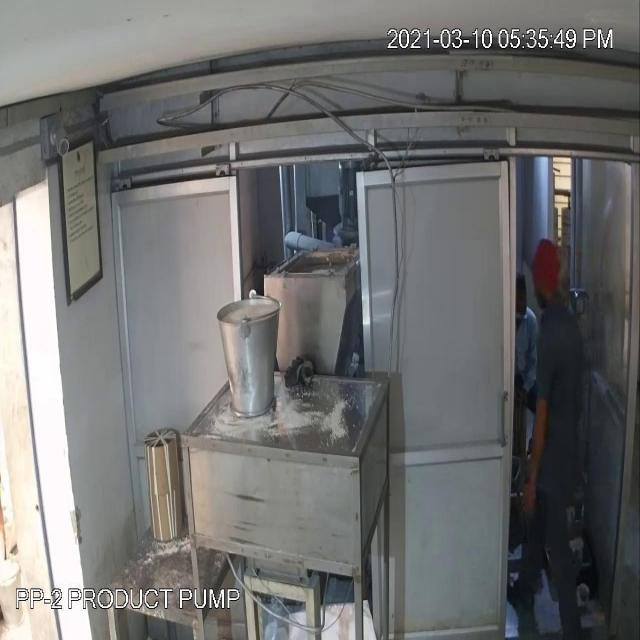No_Gloves: (514, 412, 552, 532)
